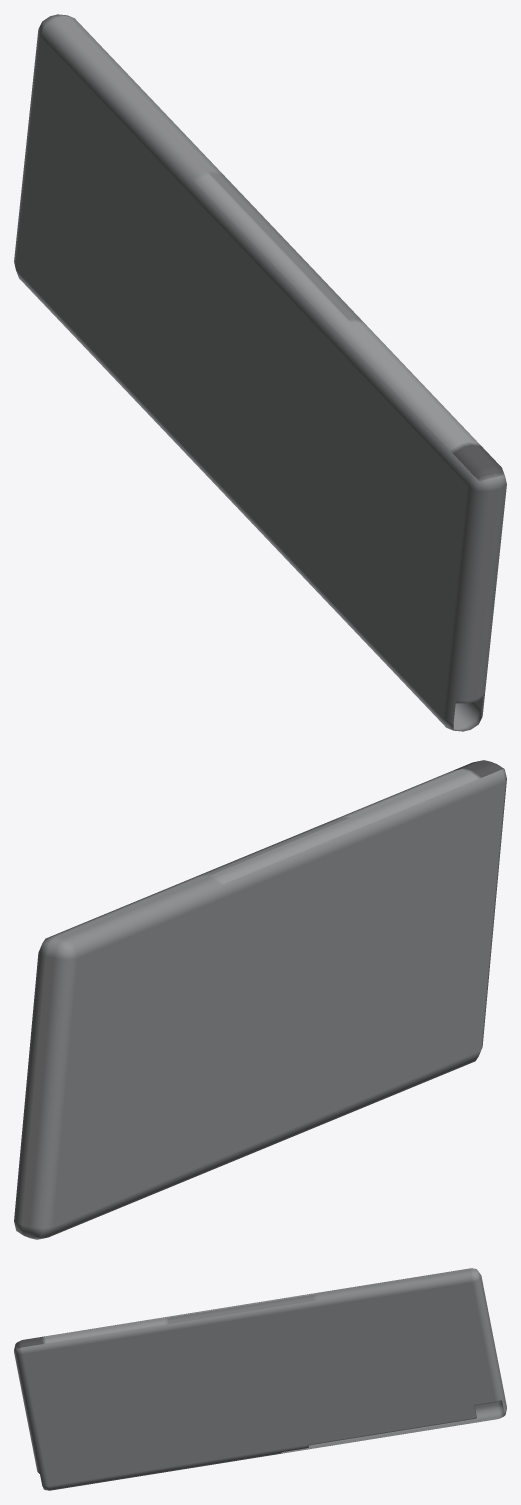
The picture shows the model from 3 angles, top to bottom: view 1: azimuth 30°, elevation 25°; view 2: azimuth 150°, elevation 25°; view 3: azimuth 270°, elevation 25°; orthographic projection. The views are drawn at different scales.
Size of the model in its own units: 0.05 by 0.5264 by 1.07.
